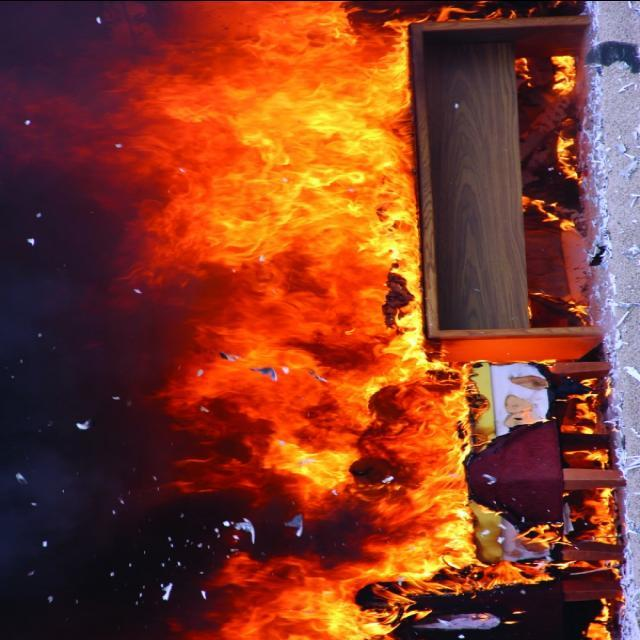Fire: (110, 0, 622, 640)
